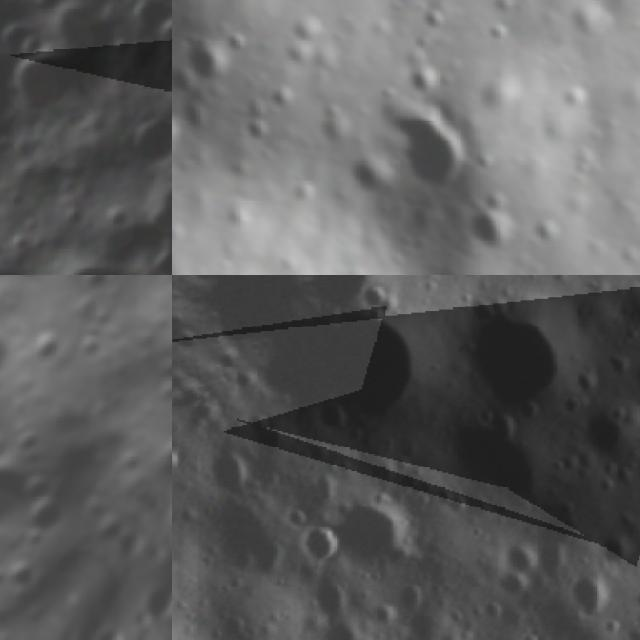crater: (239, 275, 457, 477), (445, 275, 606, 431), (316, 478, 433, 595), (1, 29, 103, 128), (0, 432, 59, 555), (386, 114, 474, 194), (569, 389, 640, 475), (21, 233, 157, 275), (285, 508, 356, 580), (112, 96, 172, 181), (12, 486, 76, 550), (198, 446, 259, 507), (455, 208, 521, 261), (556, 568, 614, 626), (9, 457, 66, 514), (18, 319, 74, 375), (113, 0, 172, 50), (177, 41, 235, 89), (0, 414, 50, 467), (62, 322, 113, 373), (306, 398, 355, 447), (0, 550, 45, 603), (346, 152, 390, 204), (0, 308, 25, 396), (598, 530, 639, 571), (67, 275, 122, 305), (238, 410, 278, 448), (358, 279, 396, 317), (408, 62, 442, 102), (0, 275, 54, 291)
